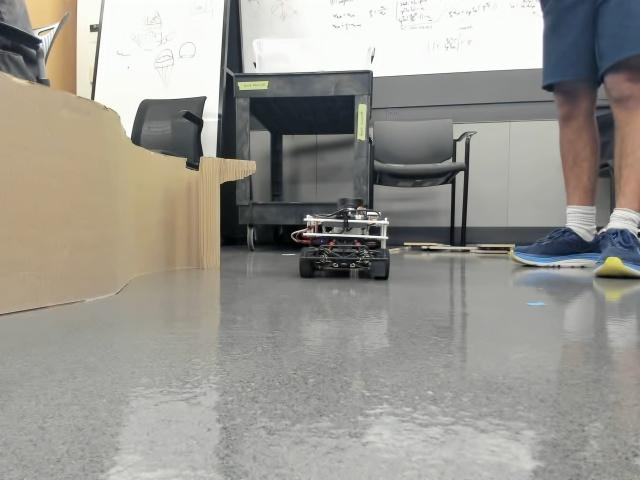Car: (291, 195, 388, 279)
